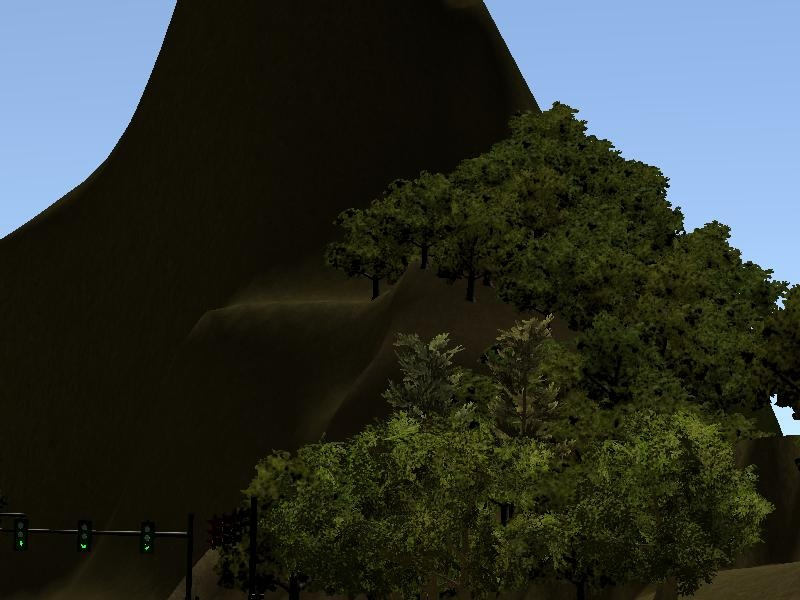GREEN: (73, 512, 95, 558)
